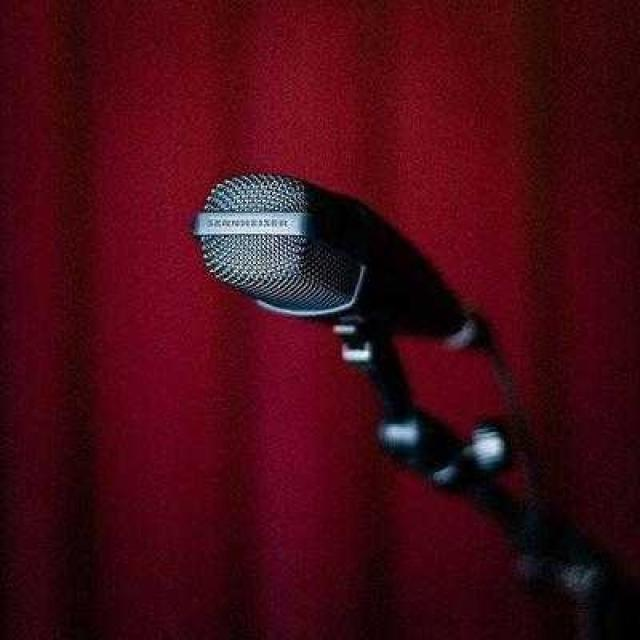microphone: (200, 169, 484, 355)
